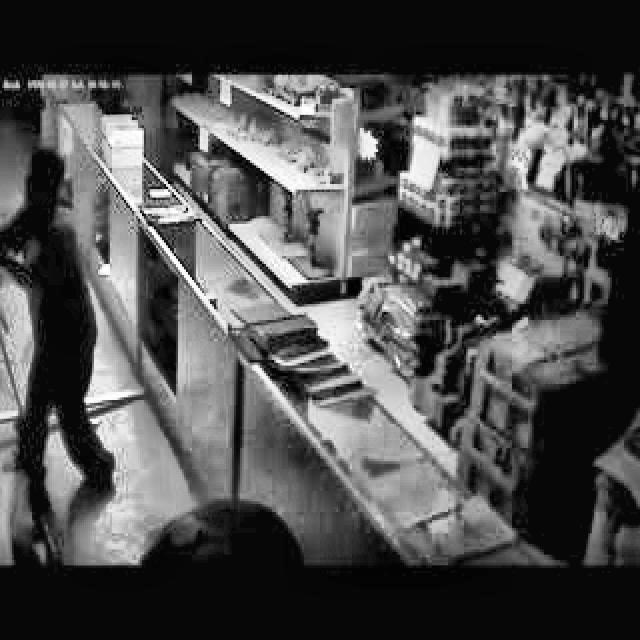Weapon: (18, 156, 200, 532)
